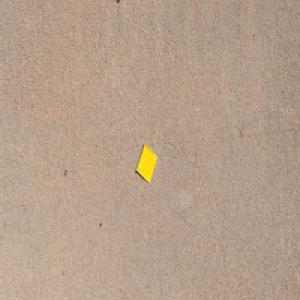PlasticPart: (135, 143, 157, 184)
